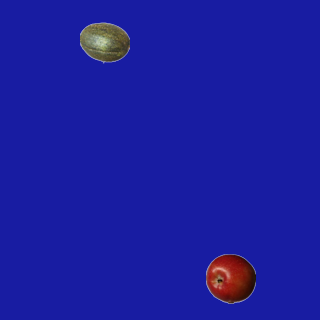Apple Braeburn: (205, 253, 255, 303)
Melon Piel de Sapo: (79, 17, 129, 67)
